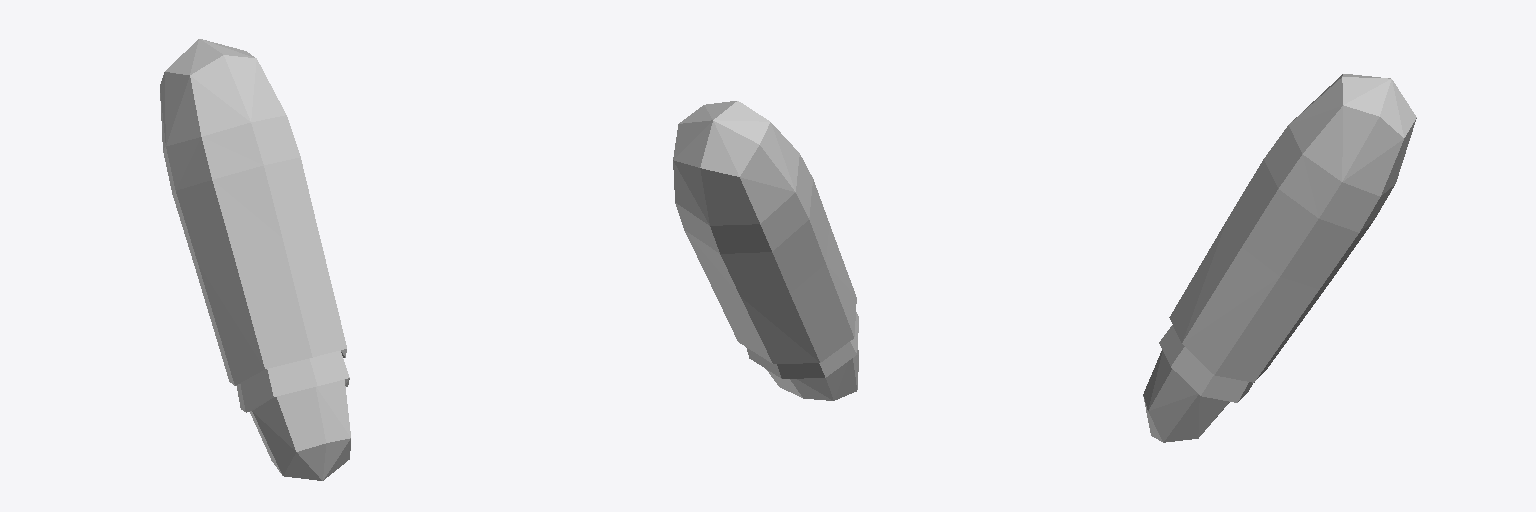
Rendered from owl_left_arm.obj.
The picture shows the model from 3 angles: view 1: azimuth 30°, elevation 25°; view 2: azimuth 150°, elevation 25°; view 3: azimuth 270°, elevation 25°; orthographic projection.
Visible parts, largest first — view 1: owl_left_arm; view 2: owl_left_arm; view 3: owl_left_arm.
Boxes of the visible parts, x1,y1,x2,y2 form: owl_left_arm: [160, 39, 350, 480]; owl_left_arm: [673, 101, 858, 400]; owl_left_arm: [1143, 74, 1416, 442].
Bounding box in the file's own units: 0.1256 × 0.3525 × 0.2451.